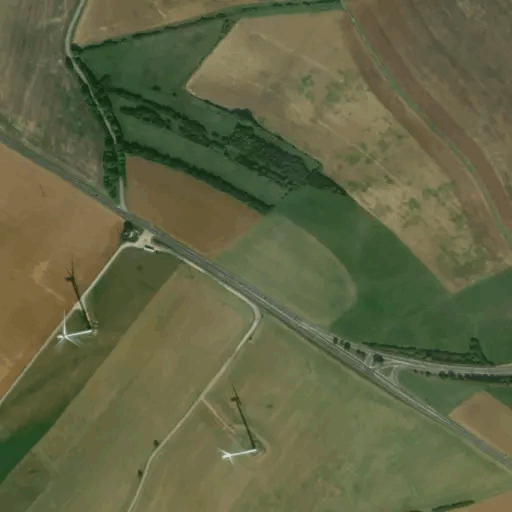wt: (48, 250, 107, 358), (213, 365, 270, 476)
